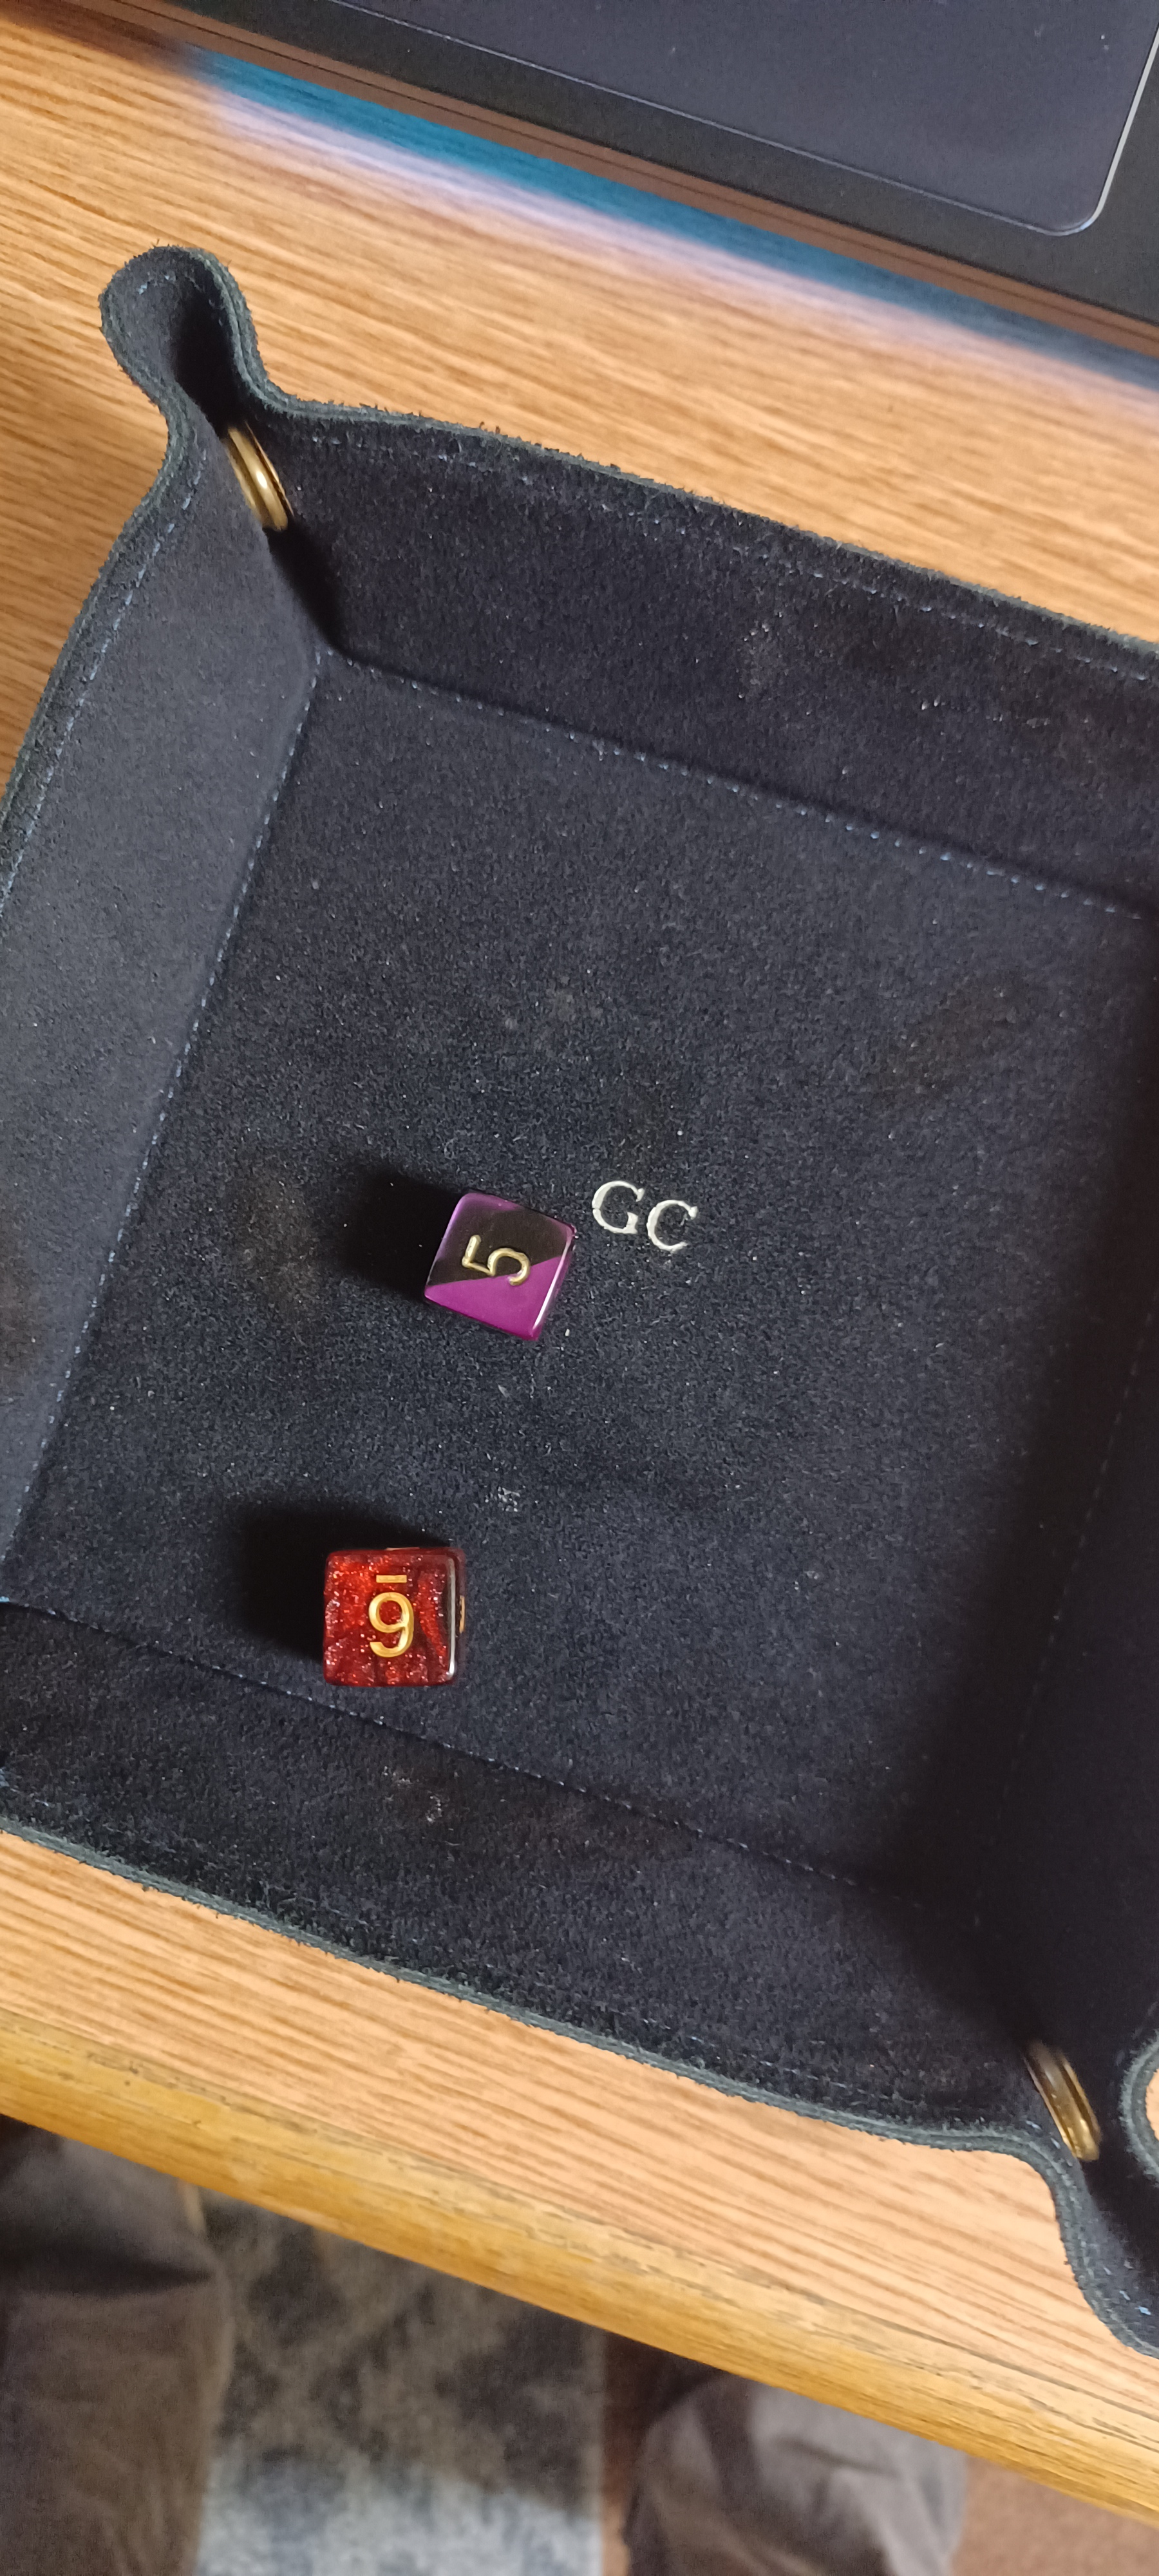five: (392, 1166, 598, 1360)
six: (300, 1526, 507, 1727)
